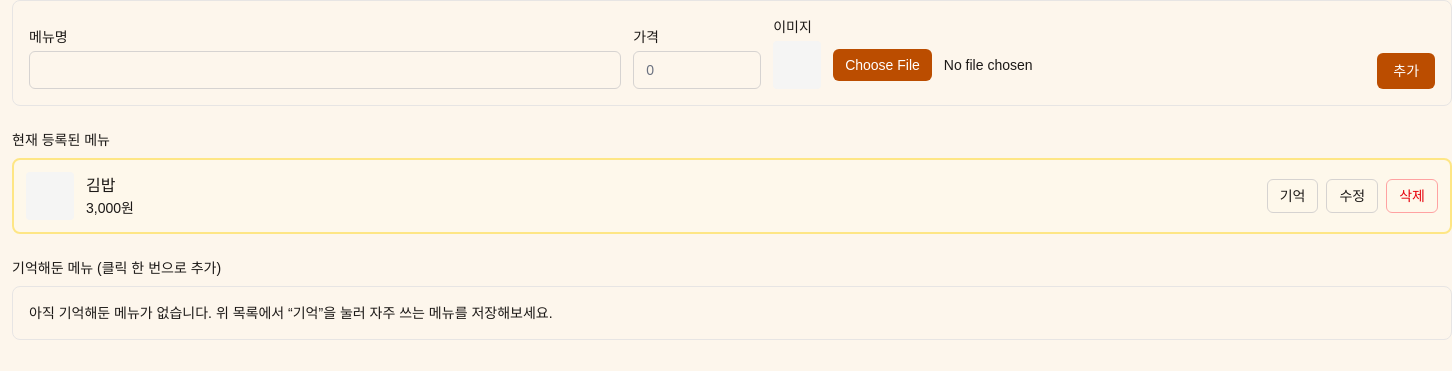
Test case: MenuManager 메뉴 추가/수정/삭제 › 이미 등록된 이름으로는 메뉴를 추가할 수 없다
Type "김밥" into the field labelled "메뉴명" at (325, 70), box x1=29 y1=51 x2=621 y2=89
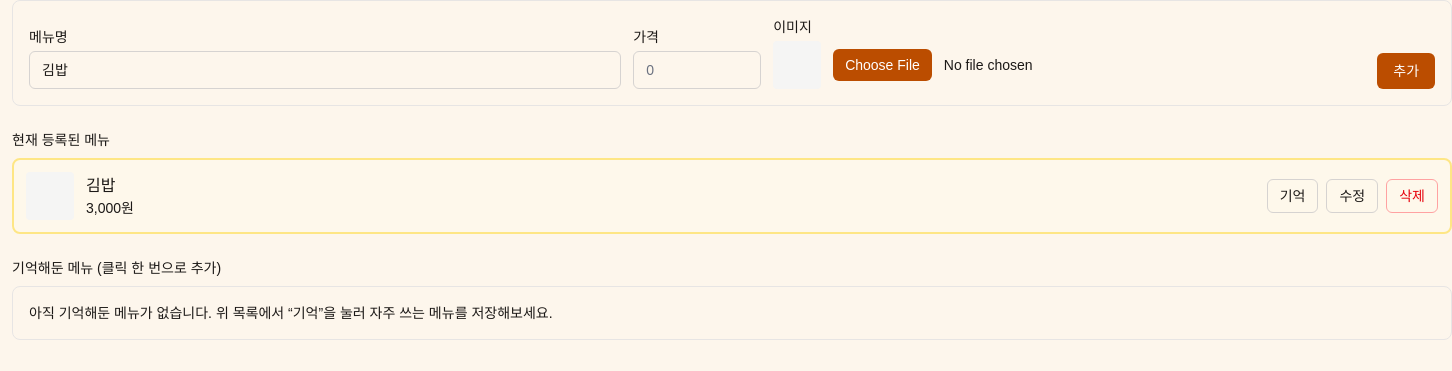
Type "3500" into the field labelled "가격" at (697, 70), box x1=633 y1=51 x2=761 y2=89
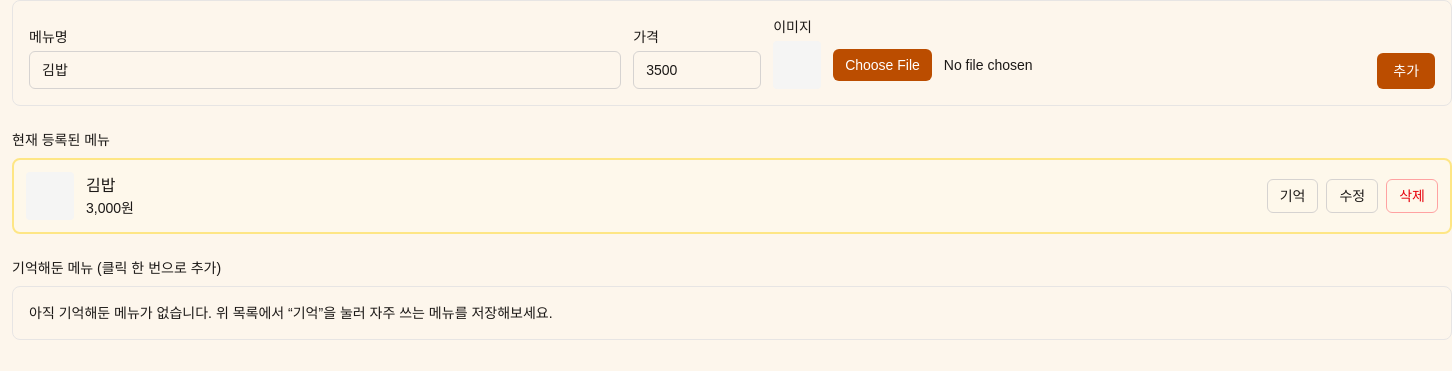
Click the button "추가" at (1406, 71), box x1=1377 y1=53 x2=1435 y2=89
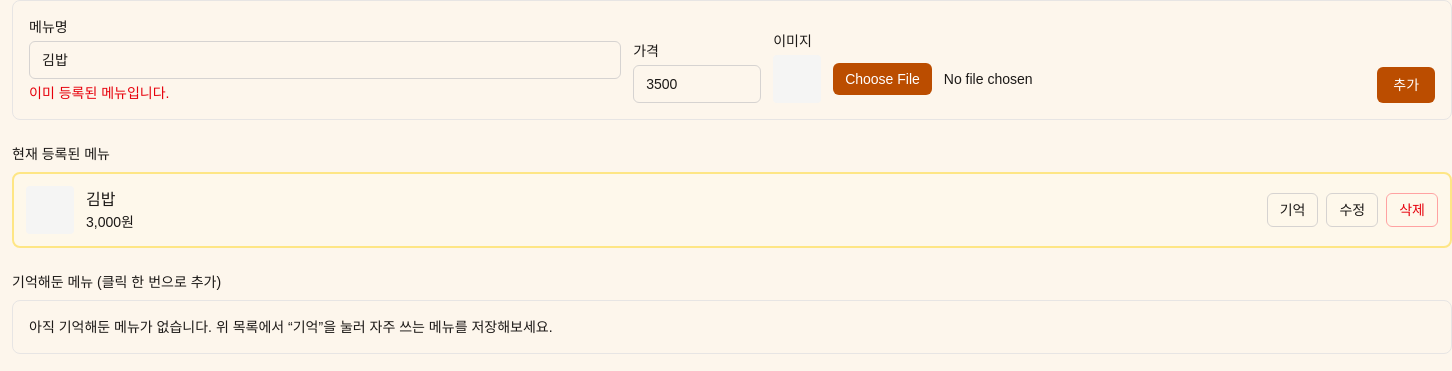
expect the text "이미 등록된 메뉴입니다." is shown: met, box x1=29 y1=85 x2=170 y2=101
